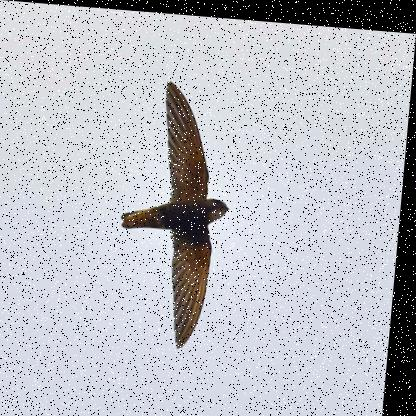Burung: (117, 76, 242, 348)
